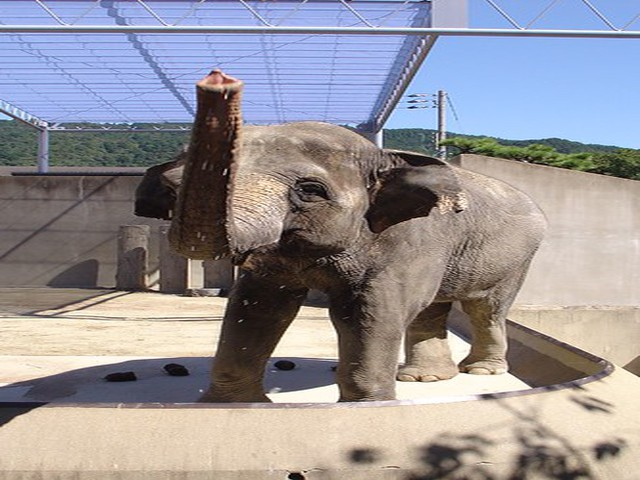Elephant: (134, 65, 556, 402)
